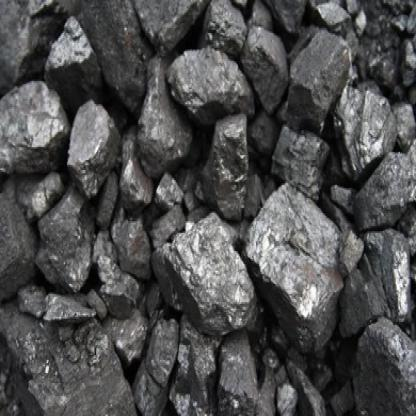Sedimentary_coal: (230, 177, 344, 358), (159, 203, 258, 342), (169, 40, 256, 117), (286, 22, 341, 132), (63, 92, 126, 185), (0, 79, 62, 172), (354, 316, 409, 414), (139, 53, 178, 167), (44, 8, 100, 83), (92, 226, 138, 310)
